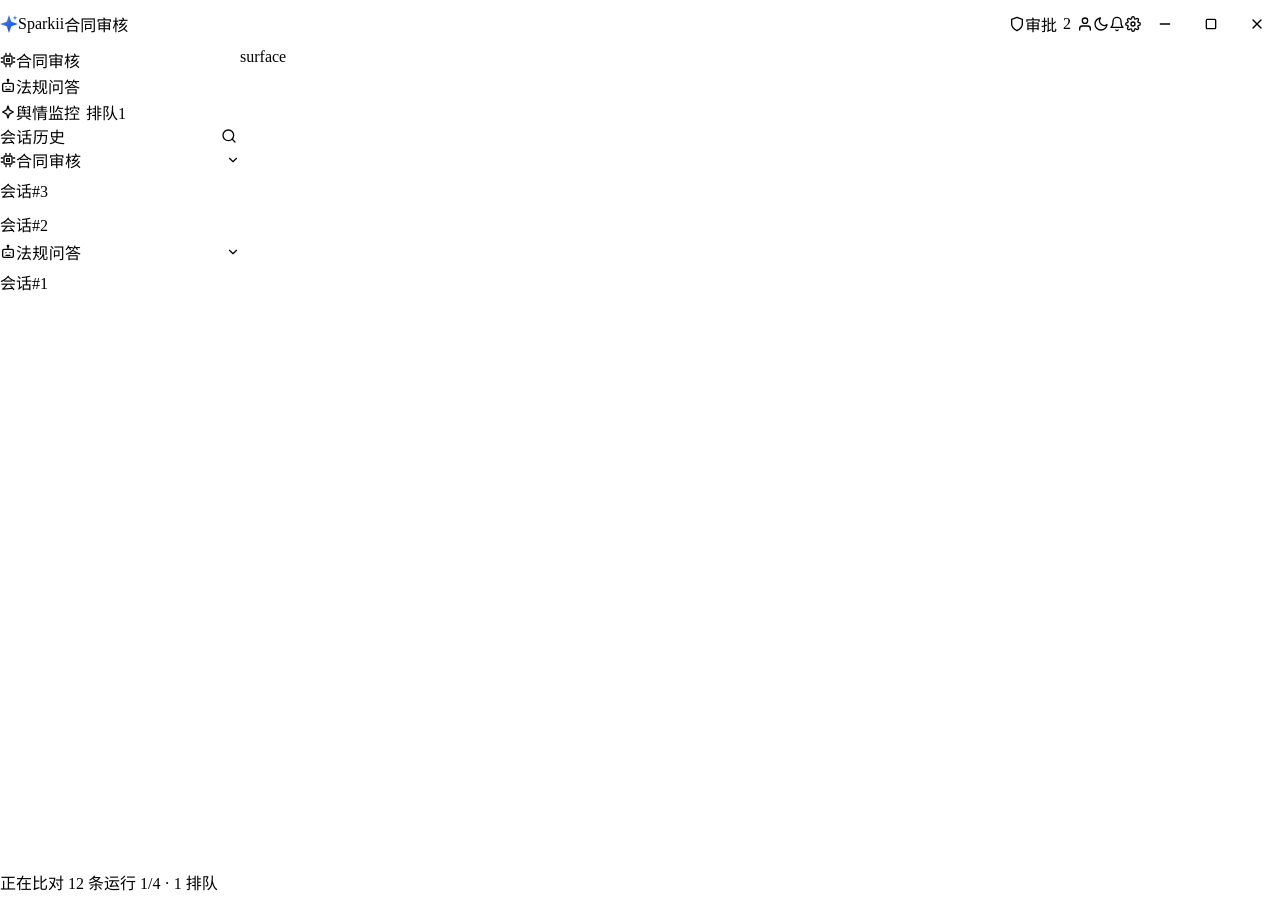
Test: Shell › account drawer shows the current user
This screenshot has width=1280, height=900.
Click the button titled "账号": [1085, 24] box left=1077, top=16, right=1093, bottom=32
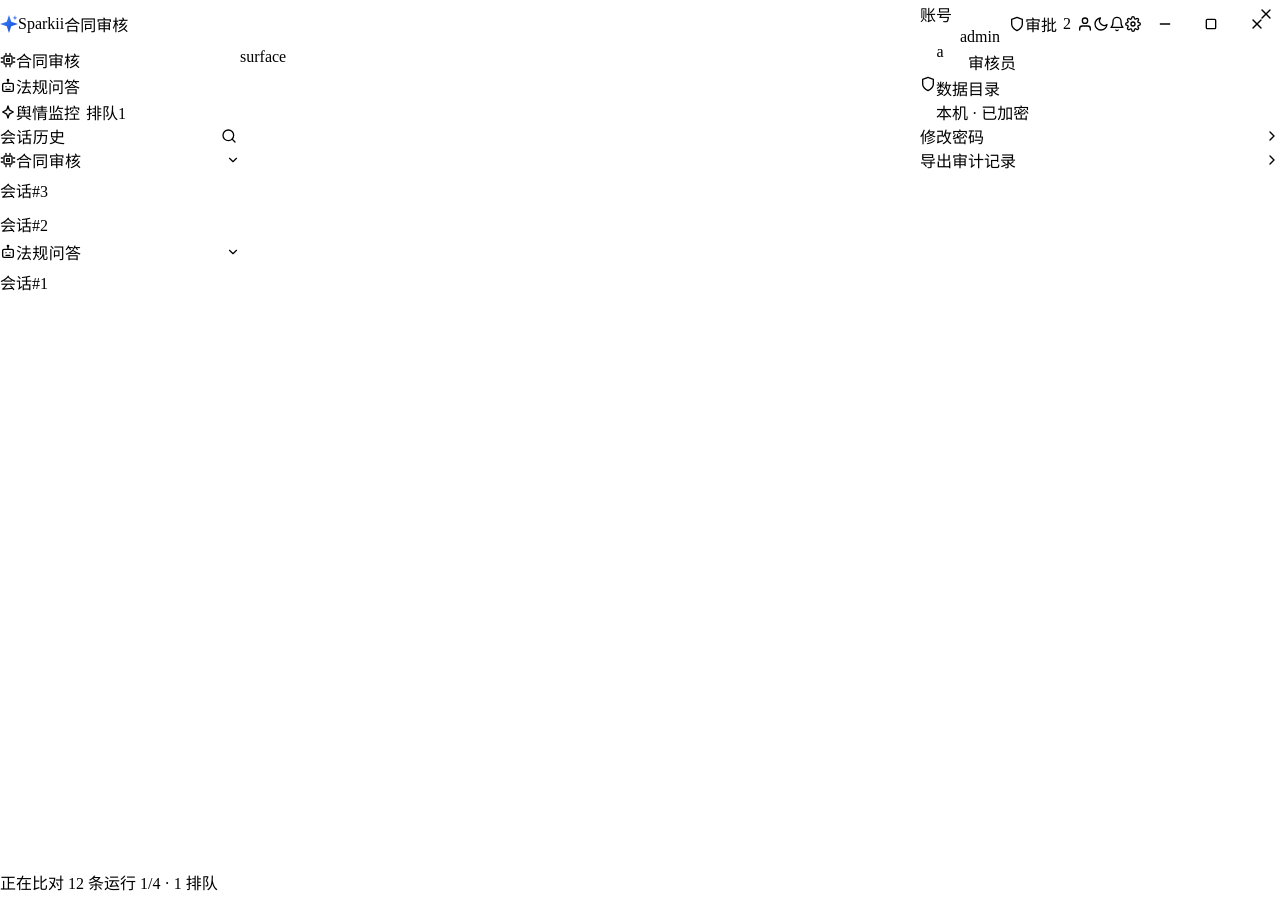
Result: the text "admin" is shown at left=960, top=28, right=1000, bottom=45
Result: the text "审核员" is shown at left=968, top=55, right=1016, bottom=72
Result: the text "本机 · 已加密" is shown at left=936, top=100, right=1029, bottom=124
